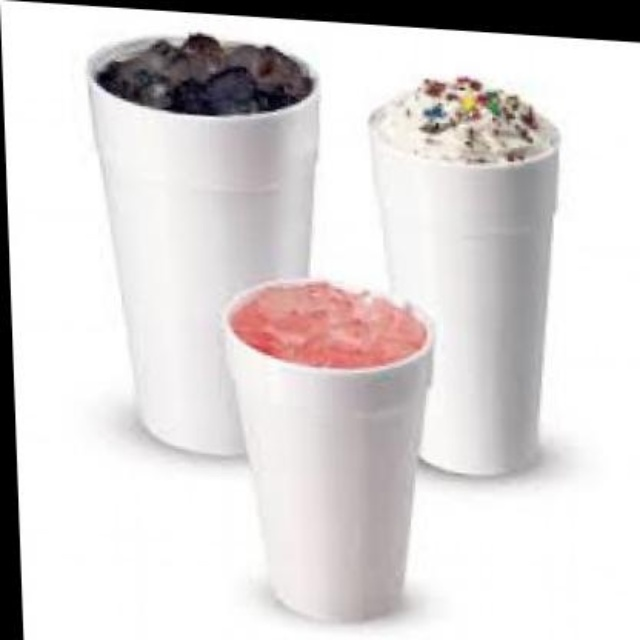trash: (89, 34, 317, 454), (369, 77, 557, 474), (225, 280, 431, 618)
